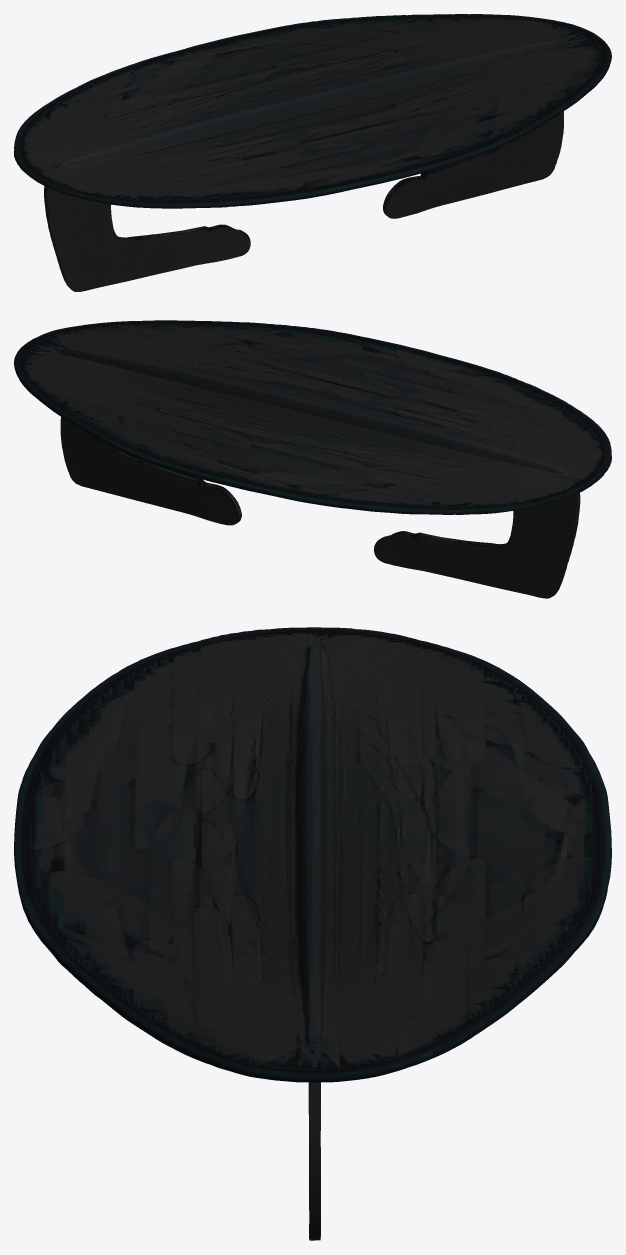
File: Noguchi_Coffee_Table__Black_Ash_.glb
3 views of the same model, one above another, from view 1: azimuth 30°, elevation 25°; view 2: azimuth 150°, elevation 25°; view 3: azimuth 270°, elevation 25° (orthographic). The views are drawn at different scales.
Visible parts, largest first — view 1: world; view 2: world; view 3: world.
Boxes of the visible parts, x1,y1,x2,y2 form: world: (14, 14, 611, 291); world: (14, 320, 611, 598); world: (14, 627, 611, 1240).
Bounding box in the file's own units: 1 × 0.2424 × 0.5617.
1 material, 1 textured.
